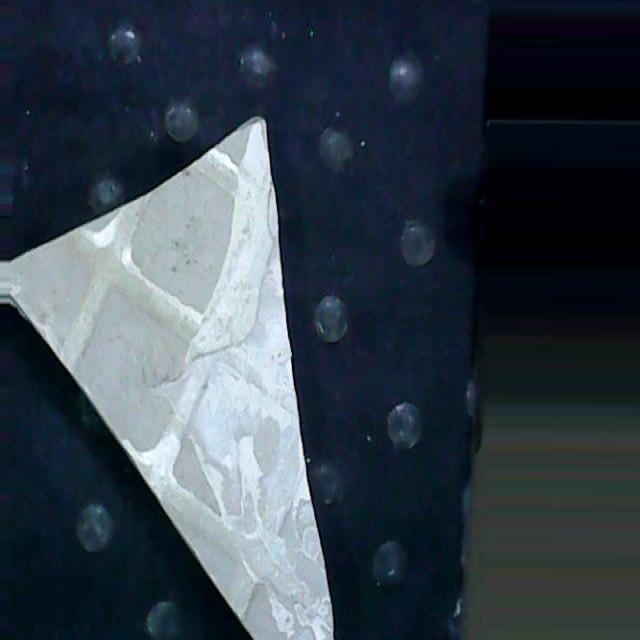-Other waste - ceramic-: (1, 113, 334, 640)
